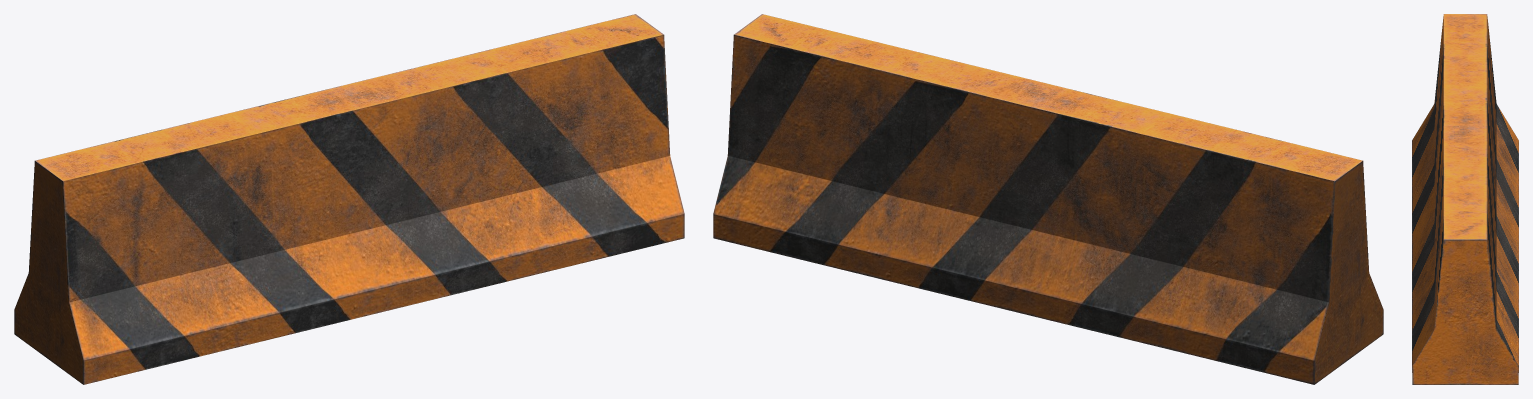
The model's file is Barrier_3.fbx.
The picture shows the model from 3 angles, left to right: view 1: azimuth 30°, elevation 25°; view 2: azimuth 150°, elevation 25°; view 3: azimuth 270°, elevation 25°; orthographic projection. The views are drawn at different scales.
Visible parts, largest first — view 1: barrier; view 2: barrier; view 3: barrier.
Boxes of the visible parts, box(x1,y1,x2,y2) form: barrier: box(14, 14, 684, 384); barrier: box(713, 14, 1383, 384); barrier: box(1412, 14, 1518, 384).
Size of the model in its own units: 33.56 by 10.07 by 6.71.
Materials: 1 (1 with a texture image).
